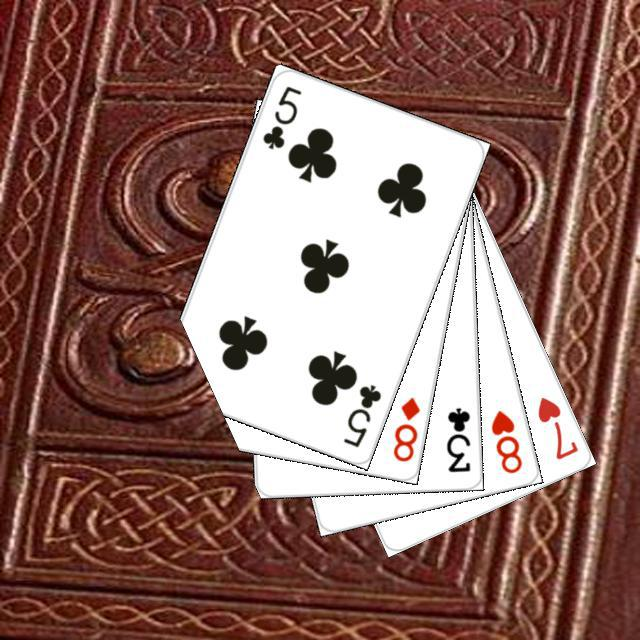3c: (441, 402, 472, 474)
5c: (257, 81, 303, 151), (338, 379, 383, 449)
7h: (532, 392, 580, 462)
8d: (388, 392, 422, 464)
8h: (486, 405, 524, 475)
